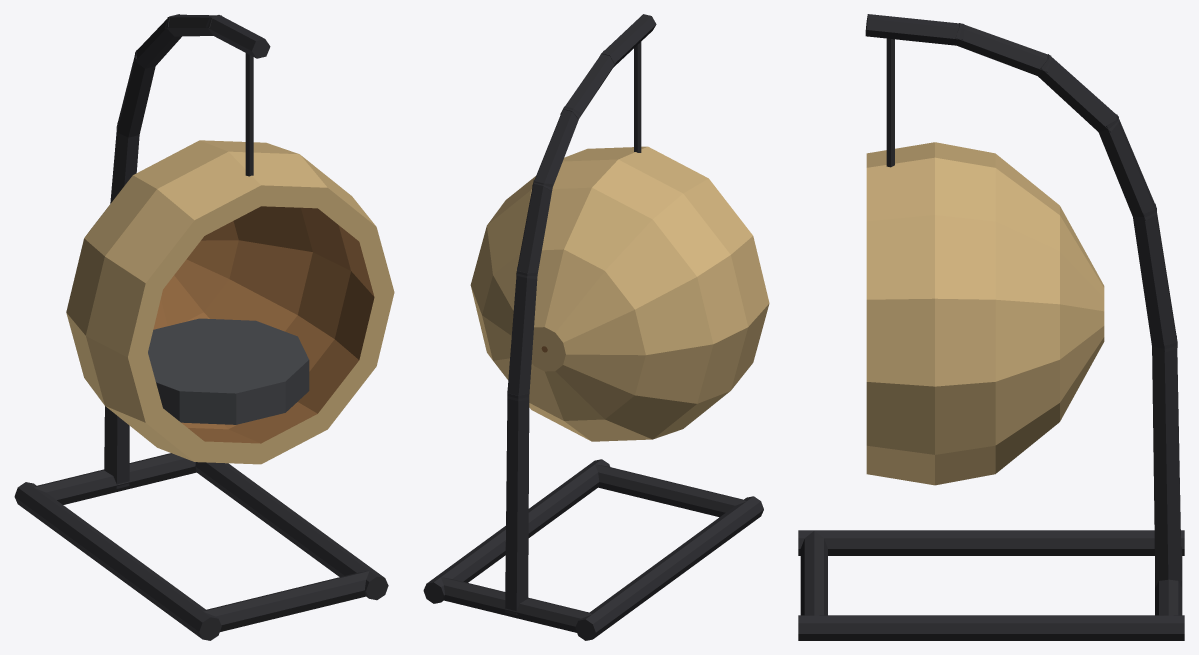
Rendered from FN_Chair_Hanging_Egg.glb.
3 renders of one model, left to right at view 1: azimuth 30°, elevation 25°; view 2: azimuth 150°, elevation 25°; view 3: azimuth 270°, elevation 25°, orthographic. The views are drawn at different scales.
Parts seen in each view (by area): view 1: FN_Chair_Hanging_Egg; view 2: FN_Chair_Hanging_Egg; view 3: FN_Chair_Hanging_Egg.
Part boxes in pixels (box(x1,y1,x2,y2)): FN_Chair_Hanging_Egg: box(14, 14, 394, 640); FN_Chair_Hanging_Egg: box(423, 14, 769, 640); FN_Chair_Hanging_Egg: box(798, 14, 1184, 640).
Bounding box in the file's own units: 0.856 × 1.59 × 0.96.
Materials: 1 (1 with a texture image).
